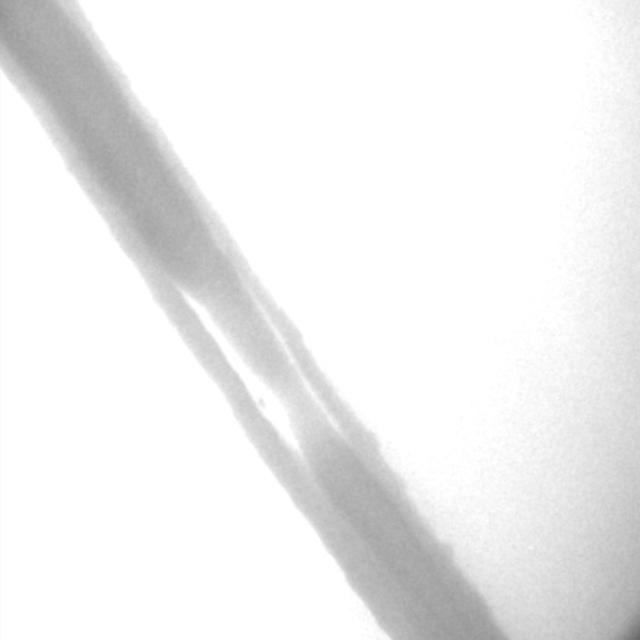unfused: (179, 284, 337, 451)
